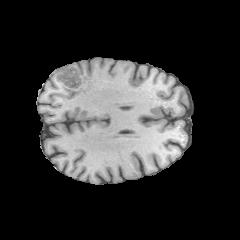glioma: (54, 65, 93, 96)
